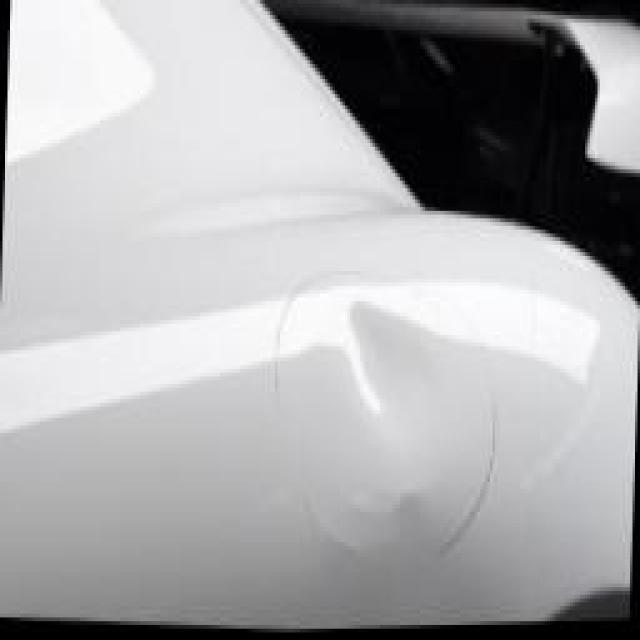Fender: (255, 222, 518, 587)
